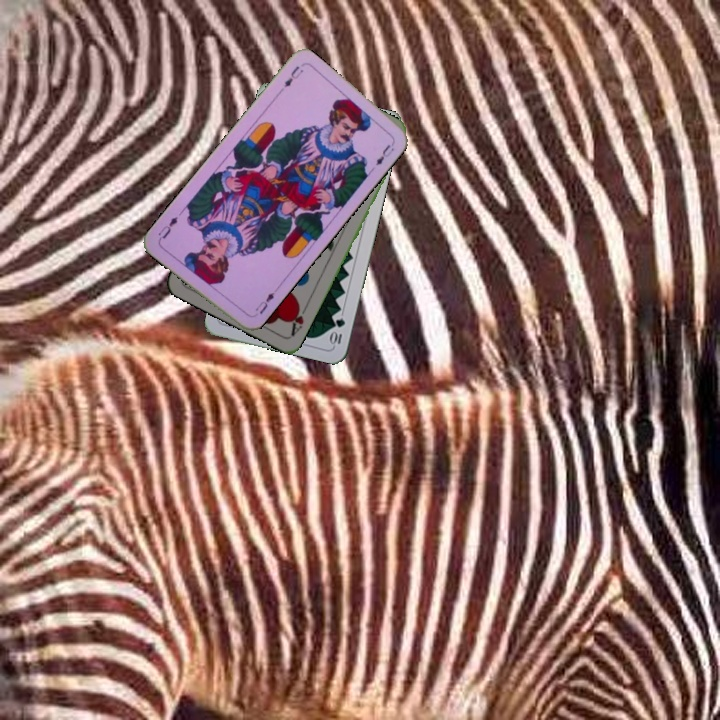EU: (250, 288, 277, 319), (280, 62, 306, 90)
G10: (326, 314, 348, 348)
HA: (286, 300, 311, 339)
